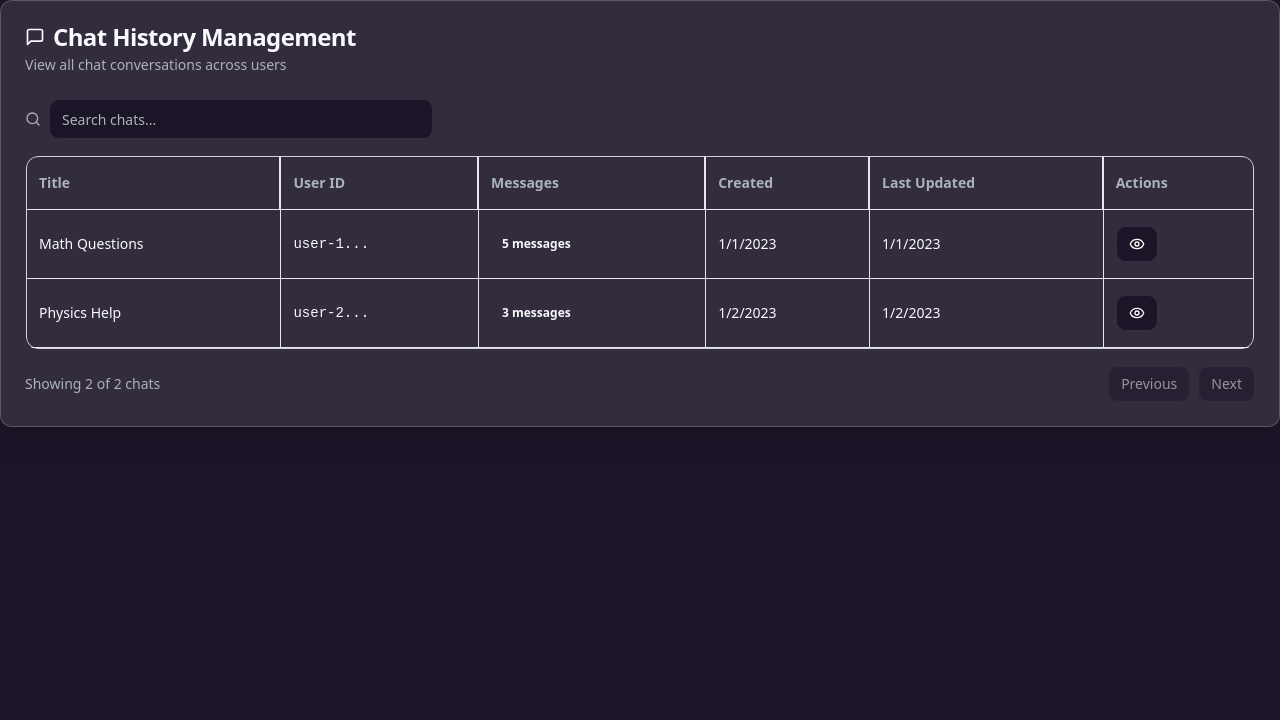
AdminChatHistory › should handle message fetch error
Check: the text "Math Questions" is shown, box [27, 210, 281, 279]
What coordinates should you click on to do the following:
click the button without text in the row of "Math Questions"
I would click on:
 (1137, 244)
Its box is [1116, 226, 1158, 262].
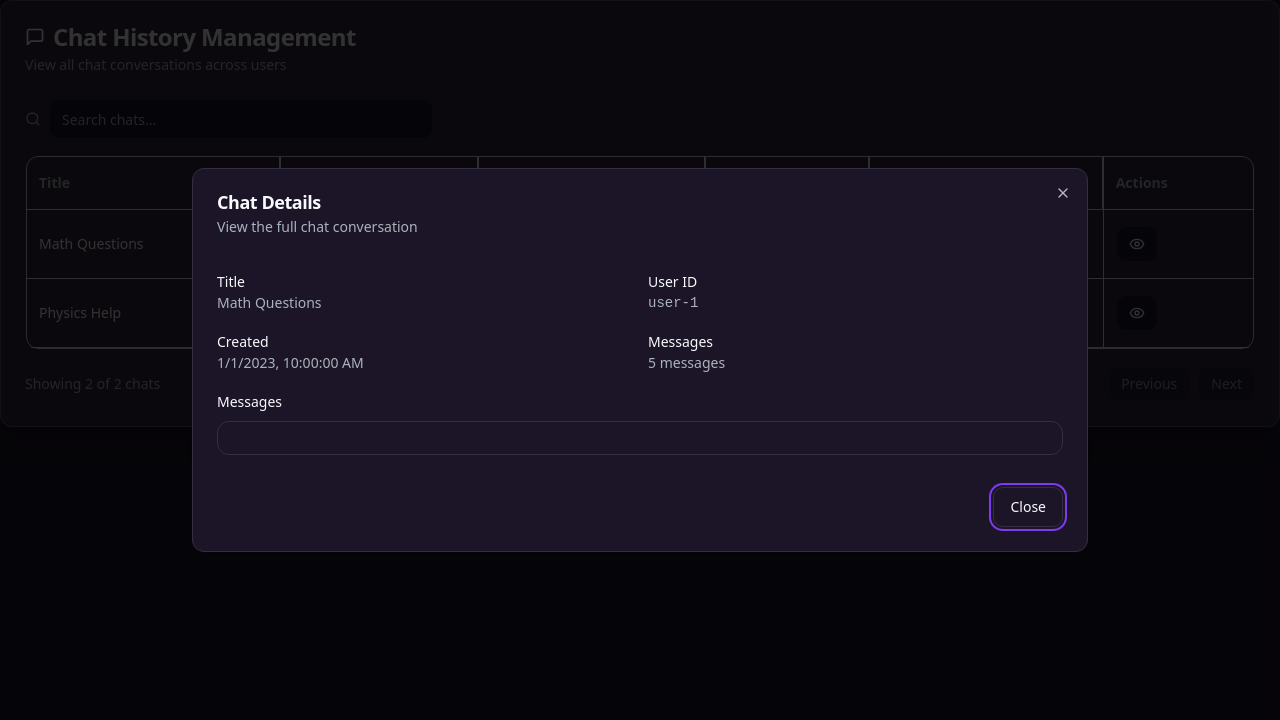
Check: the heading "Chat Details" is shown, box [217, 190, 321, 214]
